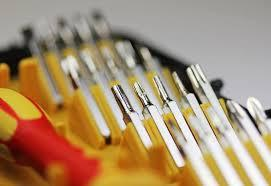screwdriver: (244, 94, 270, 135), (223, 97, 255, 127), (185, 62, 213, 96), (110, 82, 135, 114), (132, 80, 157, 112), (152, 74, 173, 108)
